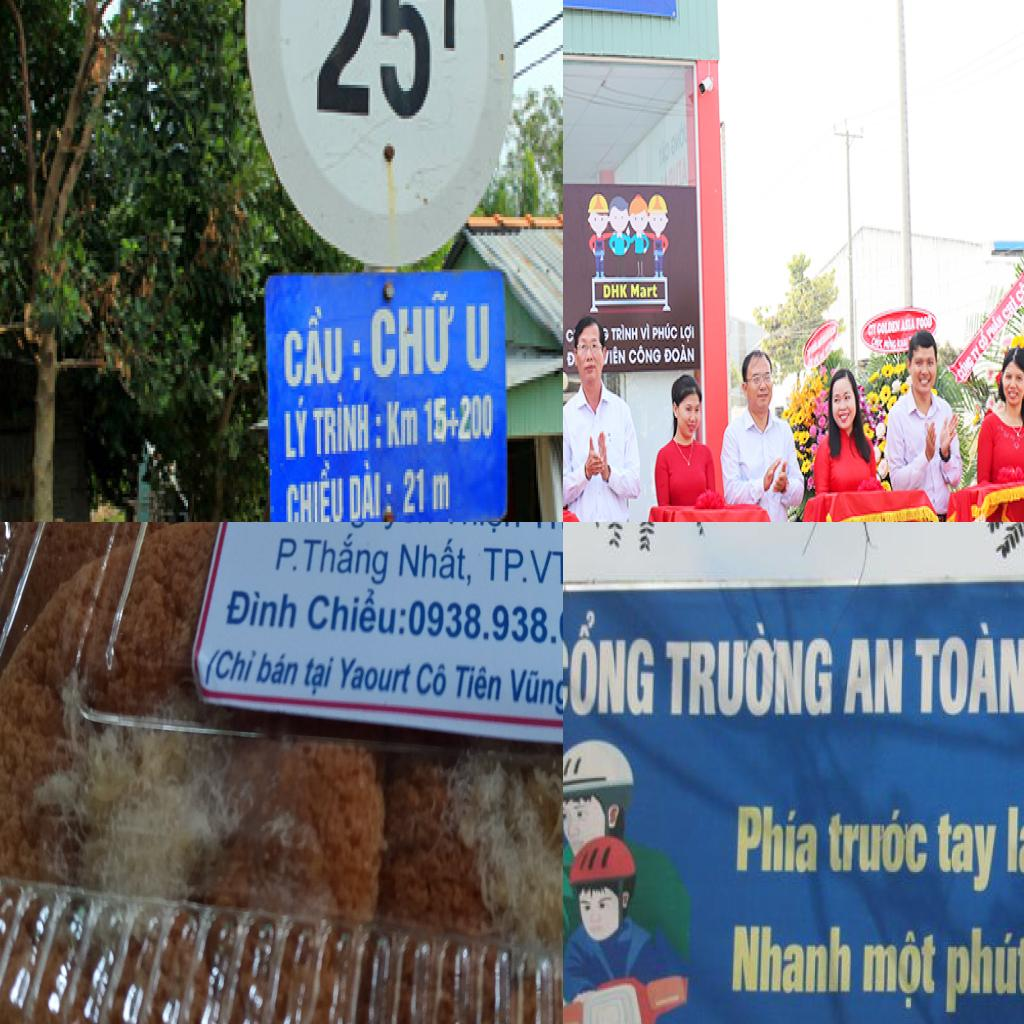text: (310, 0, 468, 133), (665, 621, 834, 719), (563, 606, 660, 722), (913, 622, 1024, 720), (729, 925, 852, 995), (407, 596, 563, 651), (370, 288, 458, 383), (941, 924, 1024, 1015), (282, 304, 364, 392), (828, 809, 929, 877), (861, 930, 938, 1009), (734, 806, 819, 877), (934, 809, 999, 894), (311, 389, 384, 460), (303, 530, 392, 587), (840, 636, 904, 715), (308, 582, 400, 636), (394, 537, 474, 588), (284, 457, 345, 522), (481, 541, 563, 589), (222, 582, 300, 632), (334, 654, 414, 697), (204, 640, 260, 698), (507, 660, 563, 718), (348, 454, 395, 522), (452, 656, 504, 709), (255, 645, 301, 689), (384, 398, 422, 451), (458, 392, 495, 445), (467, 303, 493, 377), (284, 393, 311, 463), (327, 522, 435, 539), (302, 648, 336, 698), (412, 659, 449, 700), (422, 395, 450, 448), (1005, 802, 1024, 877), (441, 522, 522, 537), (272, 532, 300, 571), (628, 345, 663, 367), (985, 309, 1006, 345), (953, 352, 976, 384), (1000, 291, 1020, 326), (664, 345, 696, 365), (630, 280, 659, 302), (602, 282, 629, 303), (651, 323, 679, 343), (610, 325, 639, 343), (1013, 263, 1024, 307), (446, 408, 460, 442), (976, 325, 990, 355), (608, 346, 627, 368), (876, 320, 902, 336), (679, 323, 697, 345), (915, 314, 934, 333), (969, 342, 982, 365), (396, 606, 405, 638), (900, 318, 917, 334), (870, 335, 885, 353), (640, 323, 652, 343), (896, 336, 911, 352), (883, 336, 897, 352), (866, 321, 879, 338), (565, 352, 577, 370), (566, 328, 574, 345)
